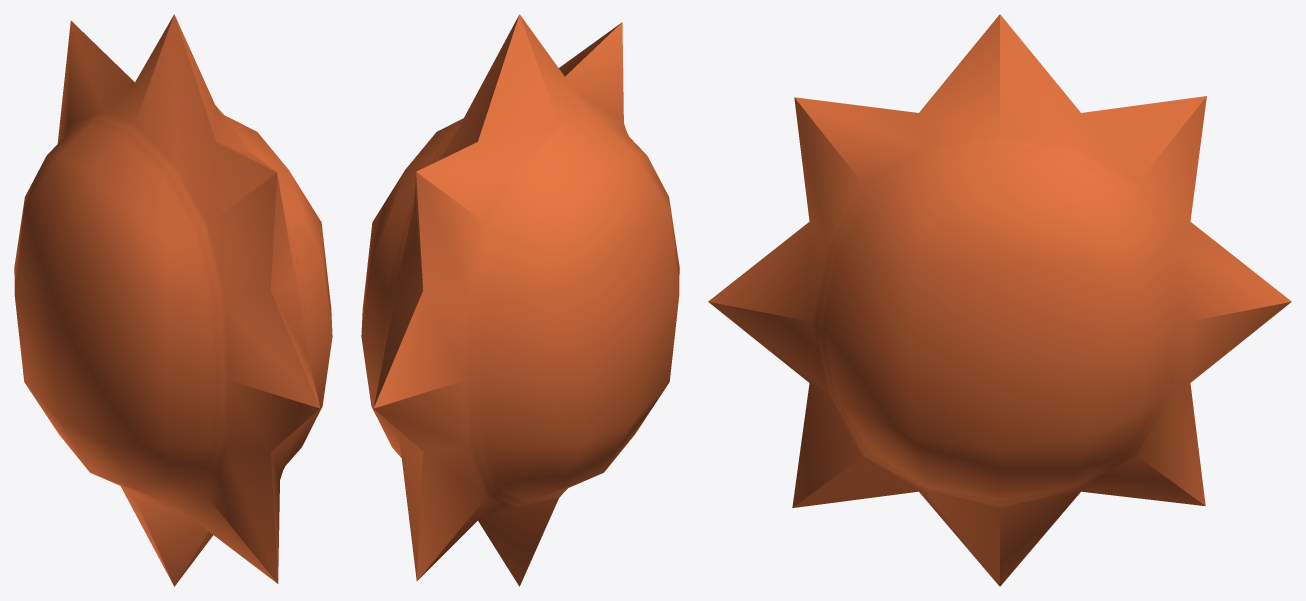
Rendered from Piedras_sol.fbx.
The picture shows the model from 3 angles, left to right: view 1: azimuth 30°, elevation 25°; view 2: azimuth 150°, elevation 25°; view 3: azimuth 270°, elevation 25°; orthographic projection.
Parts seen in each view (by area): view 1: Piedra_sol; view 2: Piedra_sol; view 3: Piedra_sol.
Boxes of the visible parts, left/top/right/bottom form: Piedra_sol: left=14, top=14, right=332, bottom=586; Piedra_sol: left=361, top=14, right=679, bottom=586; Piedra_sol: left=708, top=14, right=1291, bottom=586.
Size of the model in its own units: 103 by 233 by 216.
